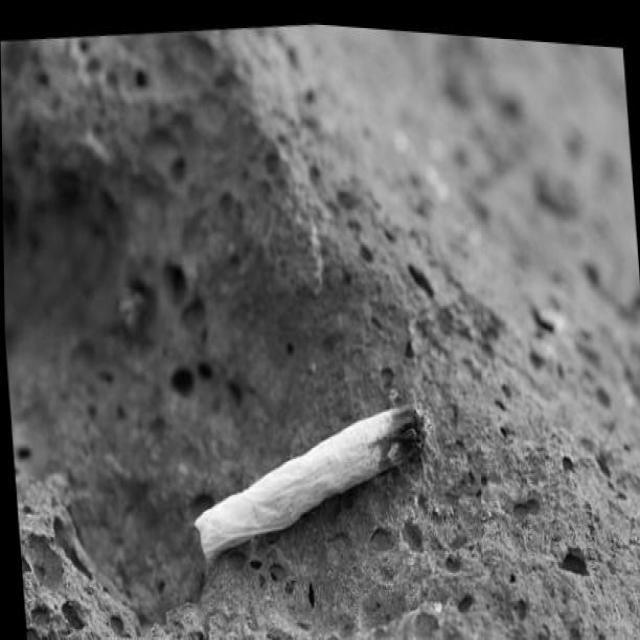cigarette: (182, 379, 435, 575)
